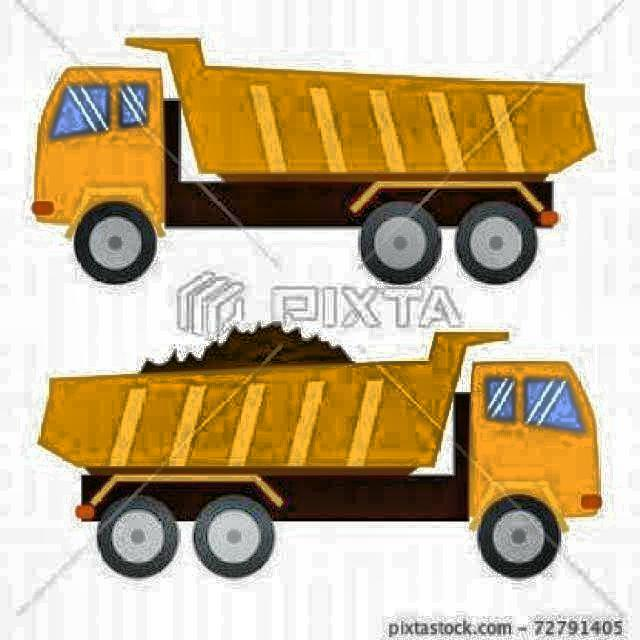dump_truck: (29, 318, 620, 592), (31, 22, 599, 294)
